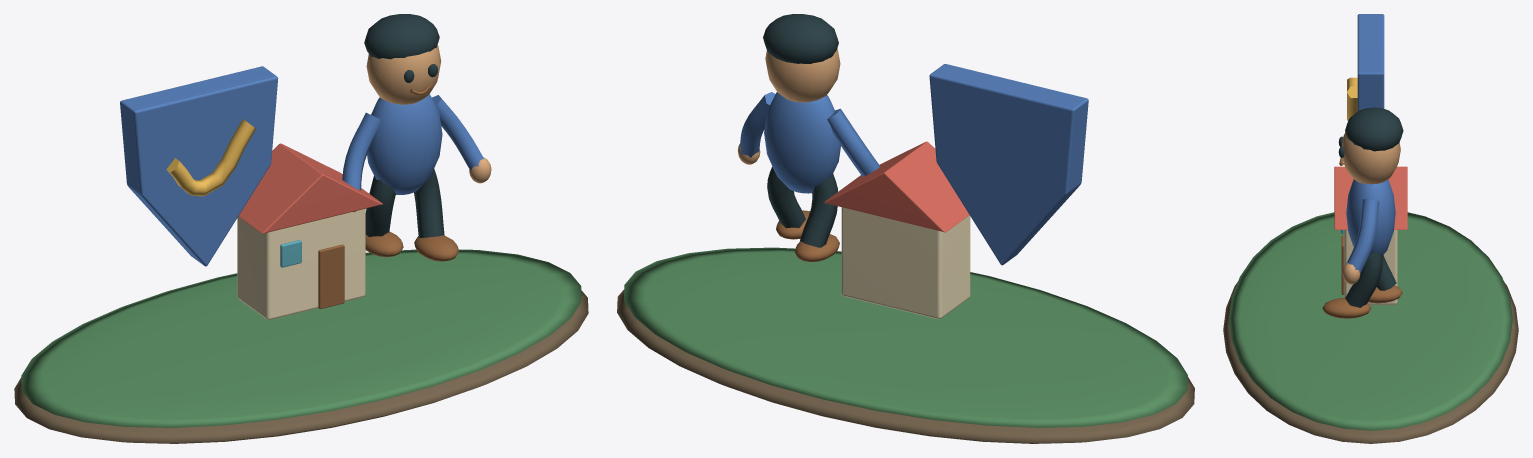
File: complete-second-double-protection.glb
3 views of the same model, side by side, from view 1: azimuth 30°, elevation 25°; view 2: azimuth 150°, elevation 25°; view 3: azimuth 270°, elevation 25° (orthographic). The views are drawn at different scales.
Parts seen in each view (by area): view 1: complete-second-double-protection_surface_01, complete-second-double-protection_surface_02, complete-second-double-protection_surface_00, complete-second-double-protection_surface_07, complete-second-double-protection_surface_08, complete-second-double-protection_surface_05, complete-second-double-protection_surface_06, complete-second-double-protection_surface_04, complete-second-double-protection_surface_03; view 2: complete-second-double-protection_surface_01, complete-second-double-protection_surface_02, complete-second-double-protection_surface_07, complete-second-double-protection_surface_00, complete-second-double-protection_surface_08, complete-second-double-protection_surface_05, complete-second-double-protection_surface_04, complete-second-double-protection_surface_06; view 3: complete-second-double-protection_surface_01, complete-second-double-protection_surface_02, complete-second-double-protection_surface_00, complete-second-double-protection_surface_05, complete-second-double-protection_surface_04, complete-second-double-protection_surface_08, complete-second-double-protection_surface_06, complete-second-double-protection_surface_07, complete-second-double-protection_surface_03.
Part boxes in pixels (box(x1,y1,x2,y2)): complete-second-double-protection_surface_01: box(21, 249, 581, 427); complete-second-double-protection_surface_02: box(120, 66, 483, 266); complete-second-double-protection_surface_00: box(14, 290, 588, 443); complete-second-double-protection_surface_07: box(237, 208, 365, 319); complete-second-double-protection_surface_08: box(238, 143, 382, 233); complete-second-double-protection_surface_05: box(364, 14, 444, 237); complete-second-double-protection_surface_06: box(318, 85, 458, 308); complete-second-double-protection_surface_04: box(353, 45, 491, 212); complete-second-double-protection_surface_03: box(166, 119, 255, 196); complete-second-double-protection_surface_01: box(624, 247, 1187, 427); complete-second-double-protection_surface_02: box(740, 64, 1088, 265); complete-second-double-protection_surface_07: box(841, 207, 970, 319); complete-second-double-protection_surface_00: box(617, 289, 1194, 443); complete-second-double-protection_surface_08: box(824, 141, 969, 232); complete-second-double-protection_surface_05: box(763, 14, 838, 247); complete-second-double-protection_surface_04: box(737, 48, 840, 164); complete-second-double-protection_surface_06: box(776, 210, 839, 262); complete-second-double-protection_surface_01: box(1229, 212, 1512, 430); complete-second-double-protection_surface_02: box(1346, 14, 1395, 274); complete-second-double-protection_surface_00: box(1223, 282, 1518, 443); complete-second-double-protection_surface_05: box(1338, 107, 1403, 307); complete-second-double-protection_surface_04: box(1341, 132, 1400, 284); complete-second-double-protection_surface_08: box(1334, 166, 1407, 229); complete-second-double-protection_surface_06: box(1322, 158, 1402, 318); complete-second-double-protection_surface_07: box(1344, 230, 1397, 304); complete-second-double-protection_surface_03: box(1347, 77, 1357, 120).
Size of the model in its own units: 4.56 by 2.56 by 2.5.
